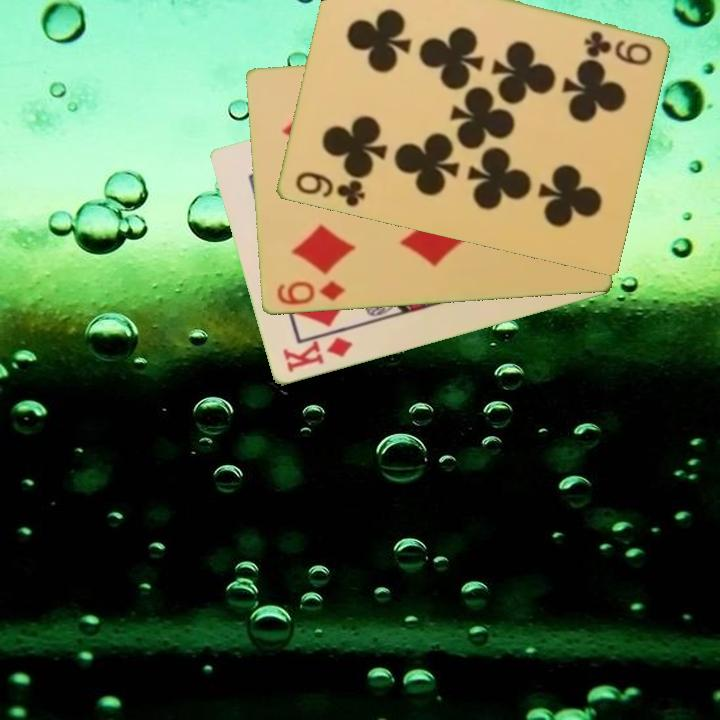6d: (273, 277, 348, 309)
9c: (291, 168, 368, 210), (580, 27, 654, 69)
Kd: (279, 334, 356, 377)
